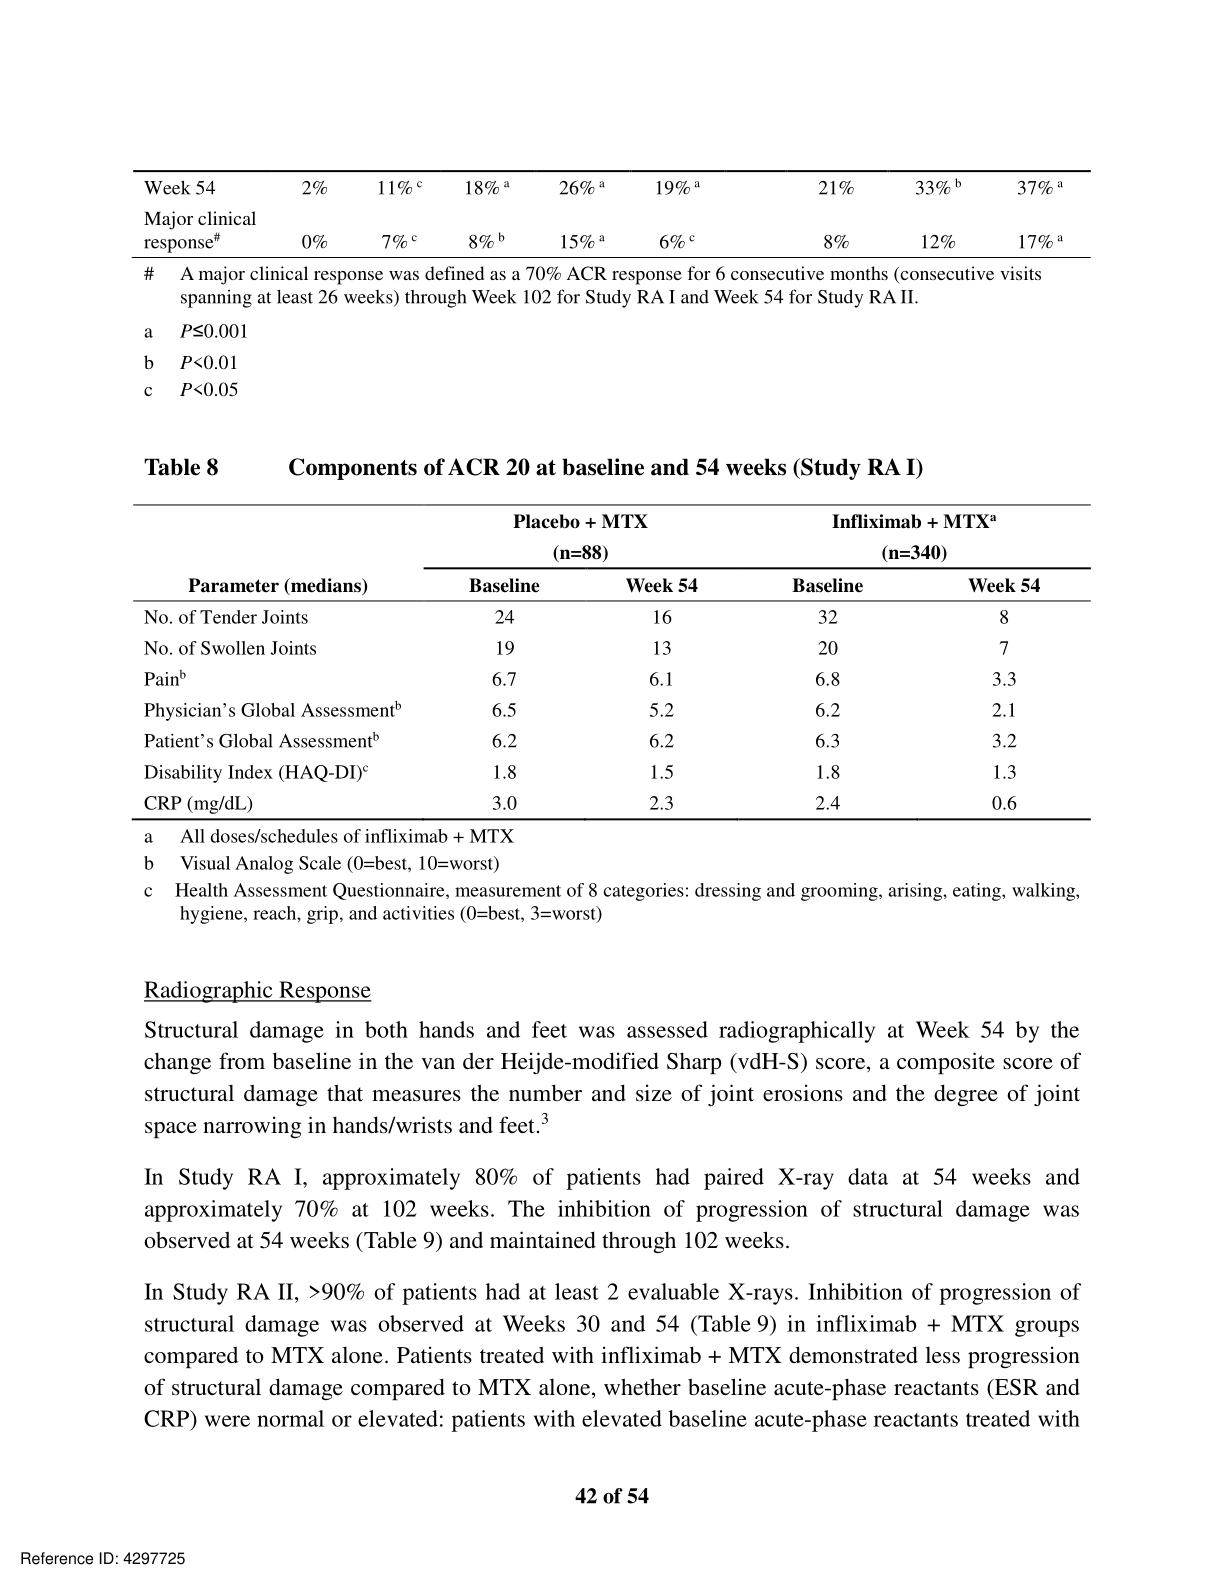partial_lined: (132, 168, 1093, 260)
partial_lined_merged_cells: (130, 503, 1093, 822)
